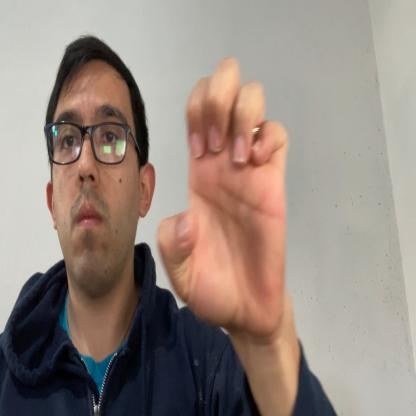E: (156, 55, 289, 342)
